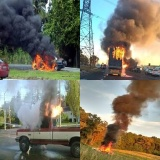fire: (108, 45, 129, 77), (31, 52, 58, 72), (41, 99, 64, 120), (96, 139, 116, 154)
